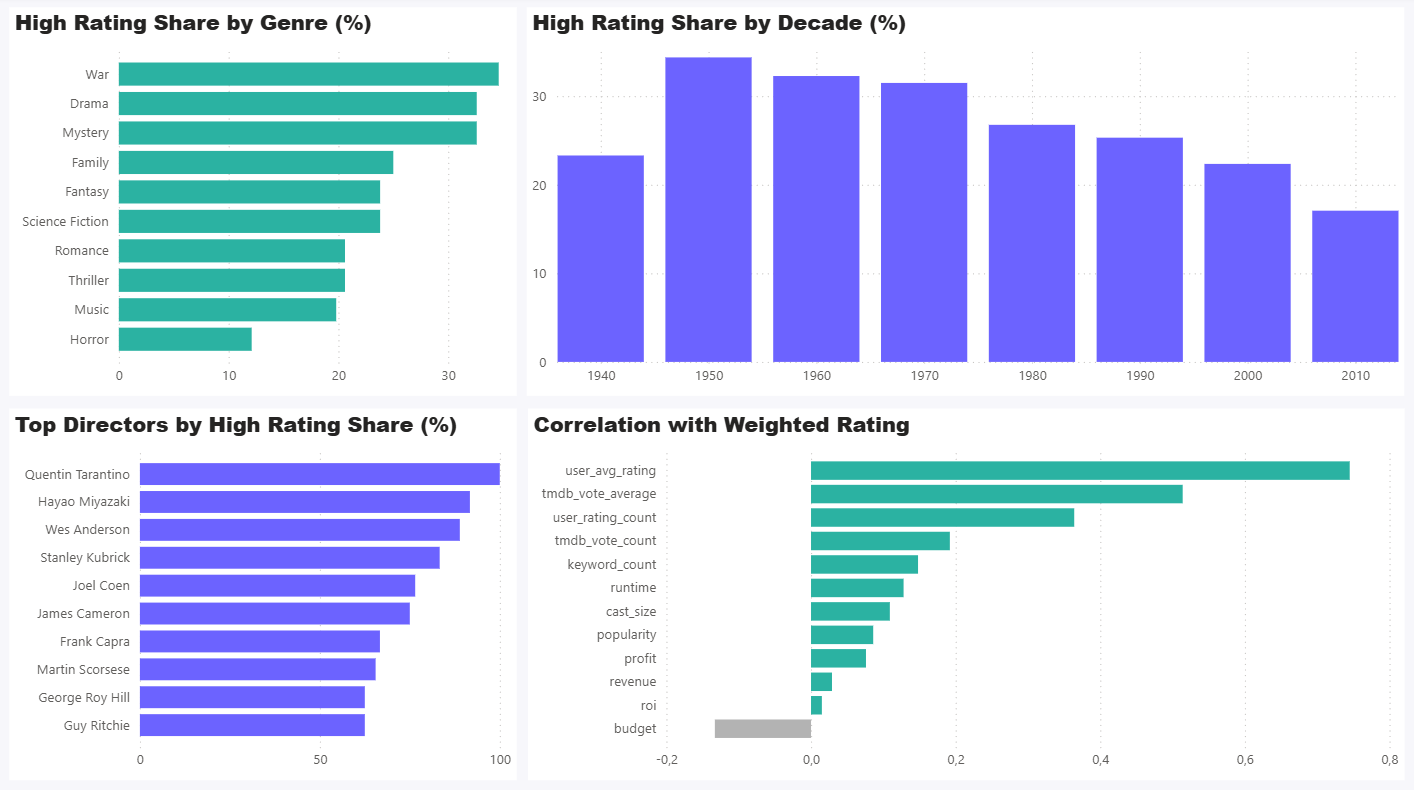

What the dashboard file says about the page in this screenshot:
{"tool":"powerbi","page":{"name":"Rating Factors","canvas":[1280,720],"ordinal":1},"visuals":[{"type":"clusteredBarChart","title":"High Rating Share by Genre (%)","fields":{"Category":["top_genres_by_high_rating.main_genre"],"Y":["Avg(top_genres_by_high_rating.high_rating_share_pct)"]},"box":[10,10,457.5,350],"z":0},{"type":"clusteredColumnChart","title":"High Rating Share by Decade (%)","fields":{"Category":["decade_analysis.decade"],"Y":["Avg(decade_analysis.high_rating_share_pct)"]},"box":[476.2,10,791.2,350],"z":1000},{"type":"clusteredBarChart","title":" Top Directors by High Rating Share (%)","fields":{"Category":["top_directors_strict.director"],"Y":["Sum(top_directors_strict.high_rating_share_pct)"]},"box":[10,372.5,457.5,335],"z":2000},{"type":"clusteredBarChart","title":" Correlation with Weighted Rating","fields":{"Category":["correlation_with_rating.metric"],"Y":["Sum(correlation_with_rating.correlation_with_weighted_rating)"]},"box":[477.5,372.5,790,335],"z":3000}]}

Visuals, with their boxes in screenshot pixels (x1, y1, x2, y2), scaled from the page's 1280x720 canvas onto the 1414x790 screenshot:
"High Rating Share by Genre (%)" clusteredBarChart: (left=11, top=11, right=516, bottom=395)
"High Rating Share by Decade (%)" clusteredColumnChart: (left=526, top=11, right=1400, bottom=395)
" Top Directors by High Rating Share (%)" clusteredBarChart: (left=11, top=409, right=516, bottom=776)
" Correlation with Weighted Rating" clusteredBarChart: (left=527, top=409, right=1400, bottom=776)
